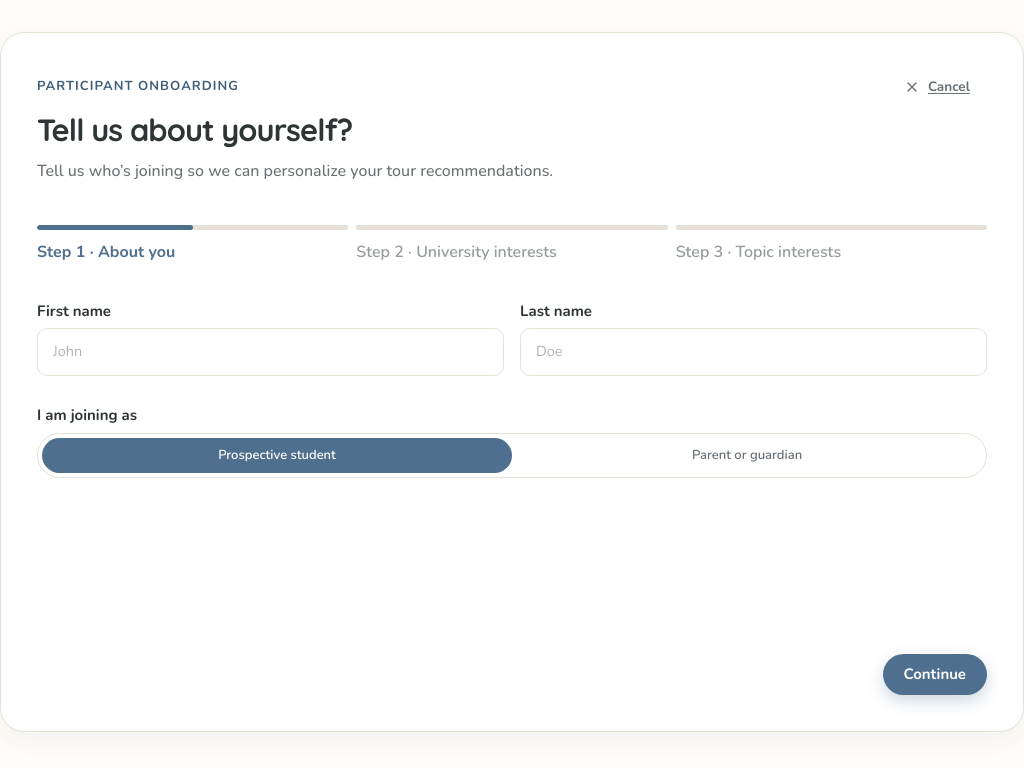
Test: ParticipantOnboardingForm edge cases › shows a loading state when tour topics haven't arrived (empty default)
Type "Jordan" into the field labelled "First name" at coordinates (270, 352), box top-left (37, 328), bottom-right (504, 376)
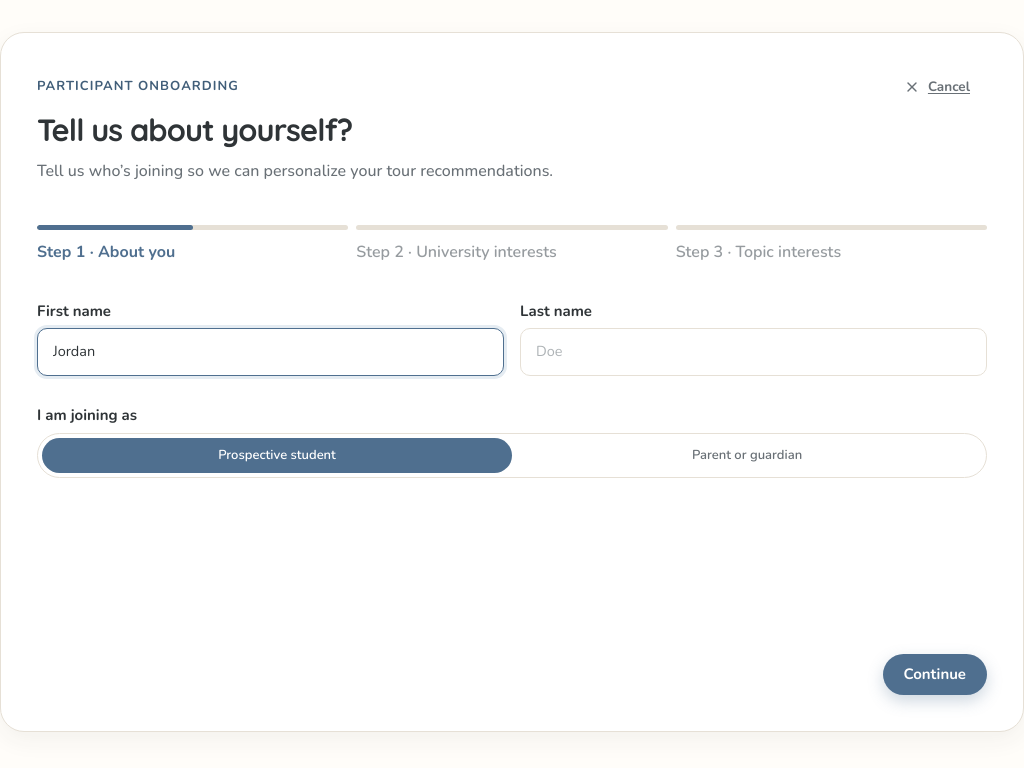
Type "Lee" into the field labelled "Last name" at coordinates (754, 352), box top-left (520, 328), bottom-right (987, 376)
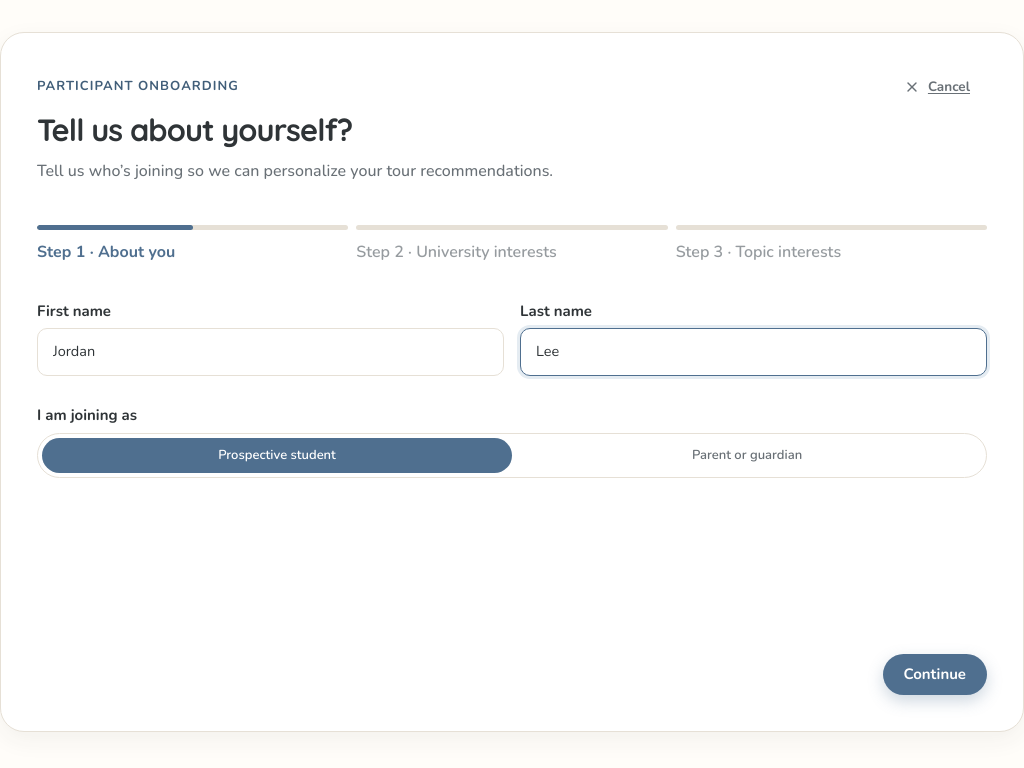
Click the button "Continue" at coordinates (935, 674), box top-left (882, 654), bottom-right (987, 695)
(page scrolled)
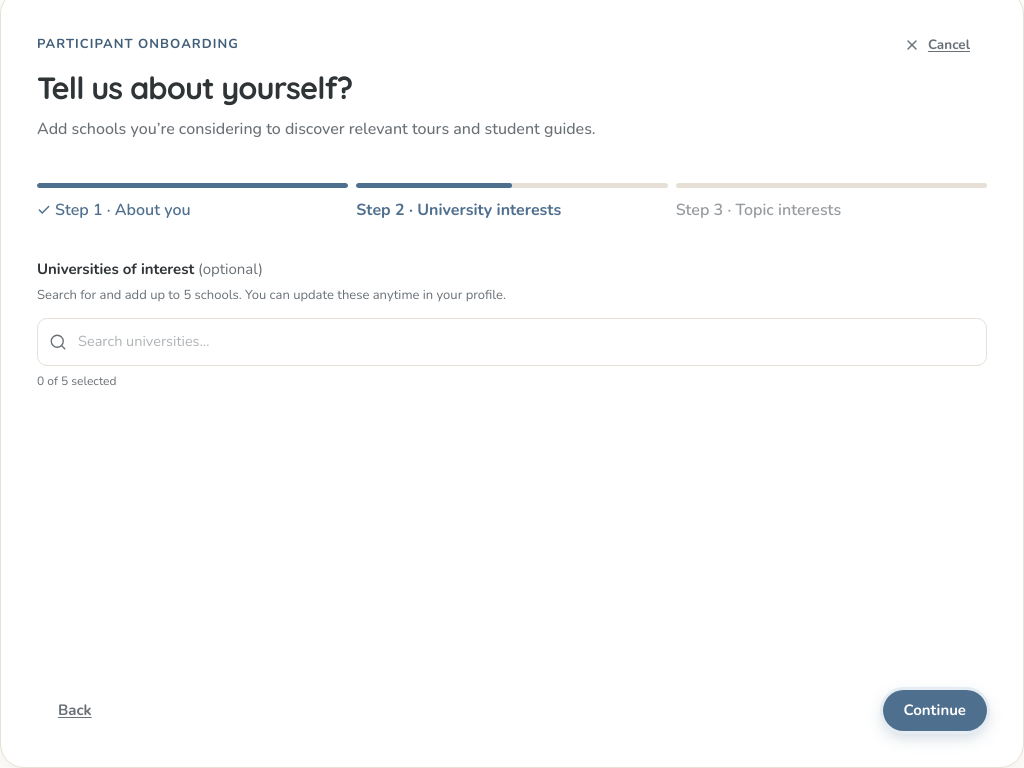
Click the button "Continue" at coordinates (935, 710), box top-left (882, 690), bottom-right (987, 731)
(page scrolled)
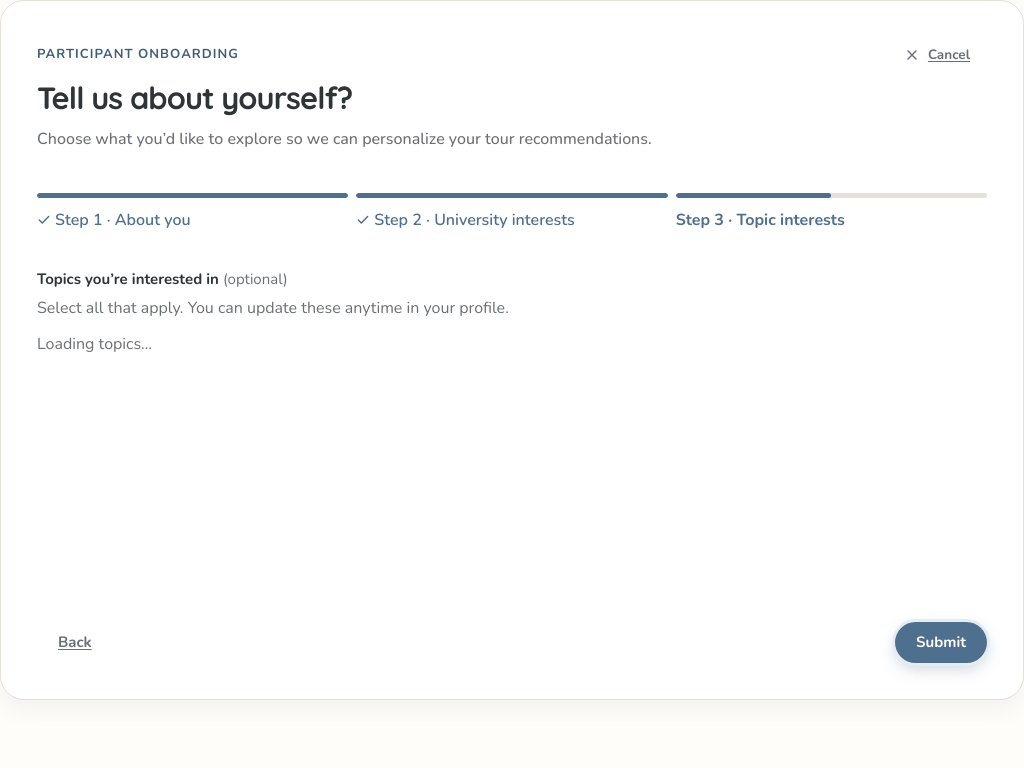
Expected: the text "Loading topics…" is shown, top-left (37, 334), bottom-right (152, 356)
